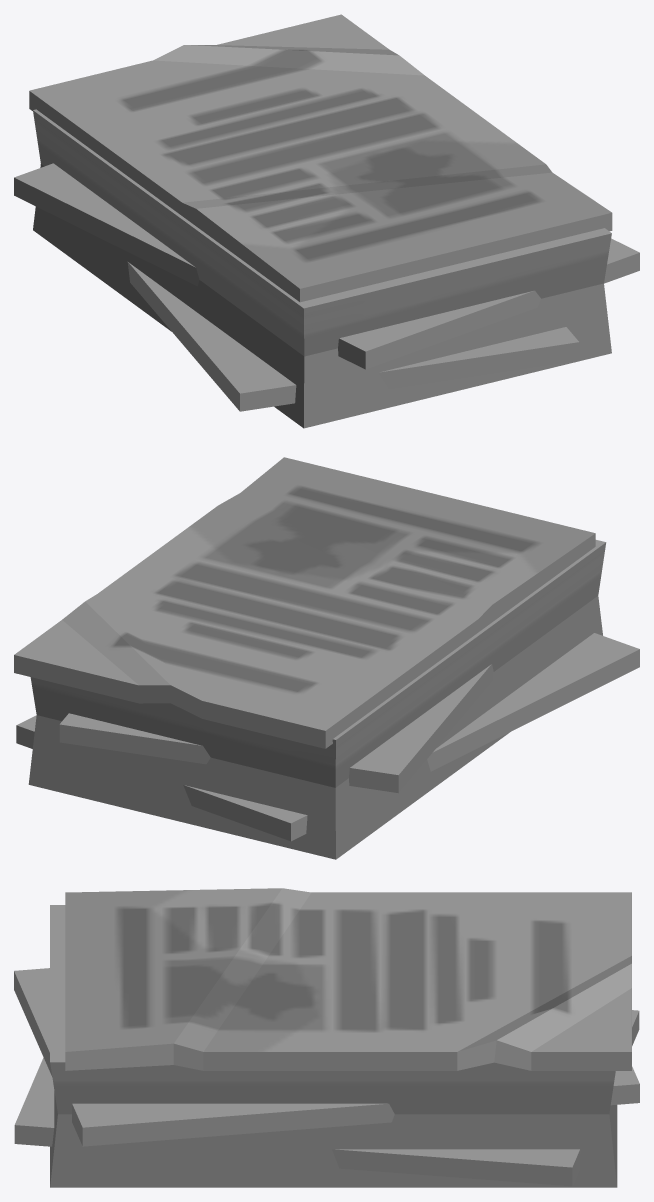
Rendered from Paper_Pile_01.fbx.
The picture shows the model from 3 angles, top to bottom: view 1: azimuth 30°, elevation 25°; view 2: azimuth 150°, elevation 25°; view 3: azimuth 270°, elevation 25°; orthographic projection. The views are drawn at different scales.
Visible parts, largest first — view 1: Paper_Pile_01; view 2: Paper_Pile_01; view 3: Paper_Pile_01.
Boxes of the visible parts, x1,y1,x2,y2 form: Paper_Pile_01: (14, 14, 639, 428); Paper_Pile_01: (14, 457, 639, 859); Paper_Pile_01: (14, 888, 639, 1187).
Bounding box in the file's own units: 0.3008 × 0.1015 × 0.3891.
